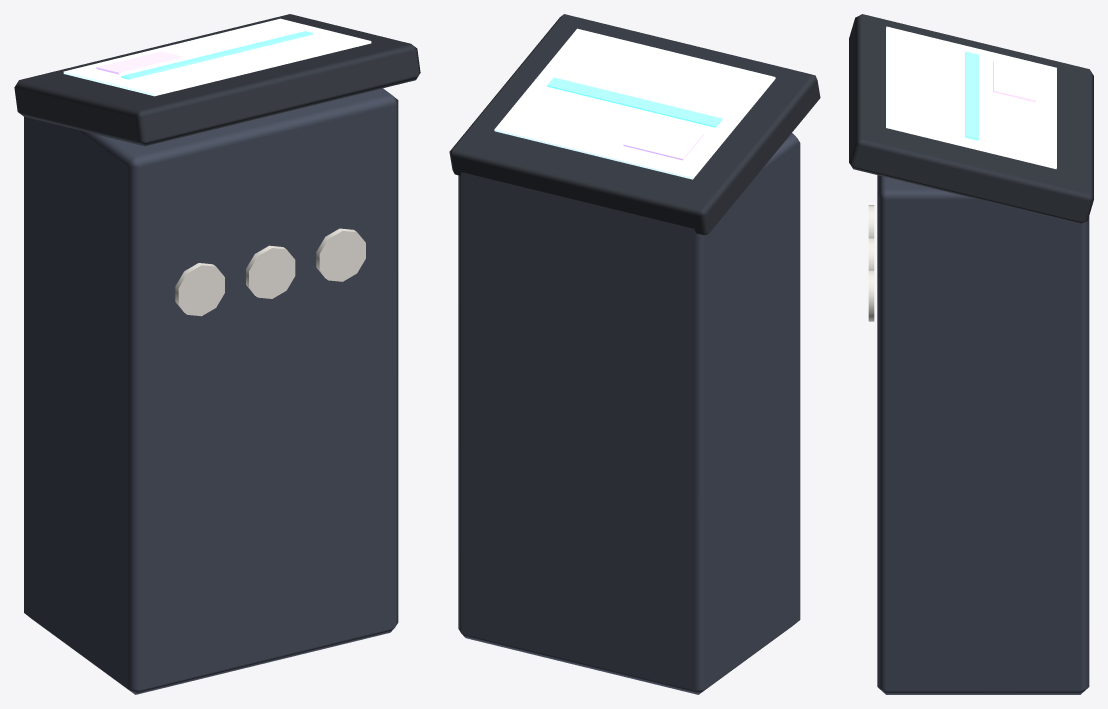
Rendered from station_intake_ausstattung_3_2.glb.
3 views of the same model, side by side, from view 1: azimuth 30°, elevation 25°; view 2: azimuth 150°, elevation 25°; view 3: azimuth 270°, elevation 25° (orthographic). The views are drawn at different scales.
Parts seen in each view (by area): view 1: station_intake_ausstattung_3_2; view 2: station_intake_ausstattung_3_2; view 3: station_intake_ausstattung_3_2.
Part boxes in pixels (x1,y1,x2,y2): station_intake_ausstattung_3_2: (14,14,420,694); station_intake_ausstattung_3_2: (449,14,820,694); station_intake_ausstattung_3_2: (849,14,1093,694).
Bounding box in the file's own units: 0.52 × 1.05 × 0.416.
